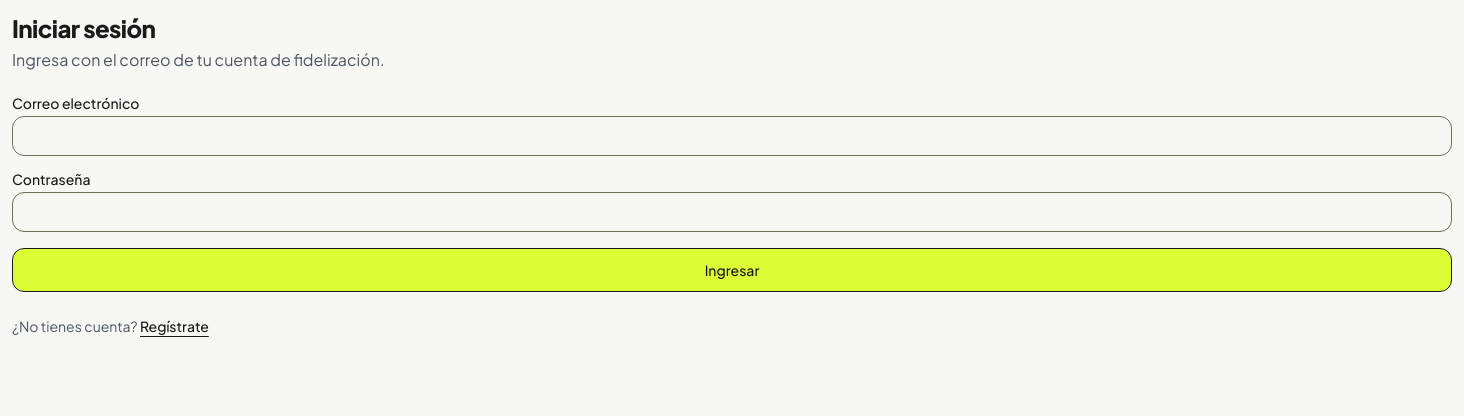
Scenario: F1-FE-01 · ingreso de cliente (UI-02) › cuenta desactivada → mensaje y cierre de sesión
The width and height of the screenshot is (1464, 416).
Type "cliente.zontes@ejemplo.test" into the field labelled "Correo electrónico".
click(732, 136); type("cliente.zontes@ejemplo.test")  # box x1=12 y1=116 x2=1452 y2=156
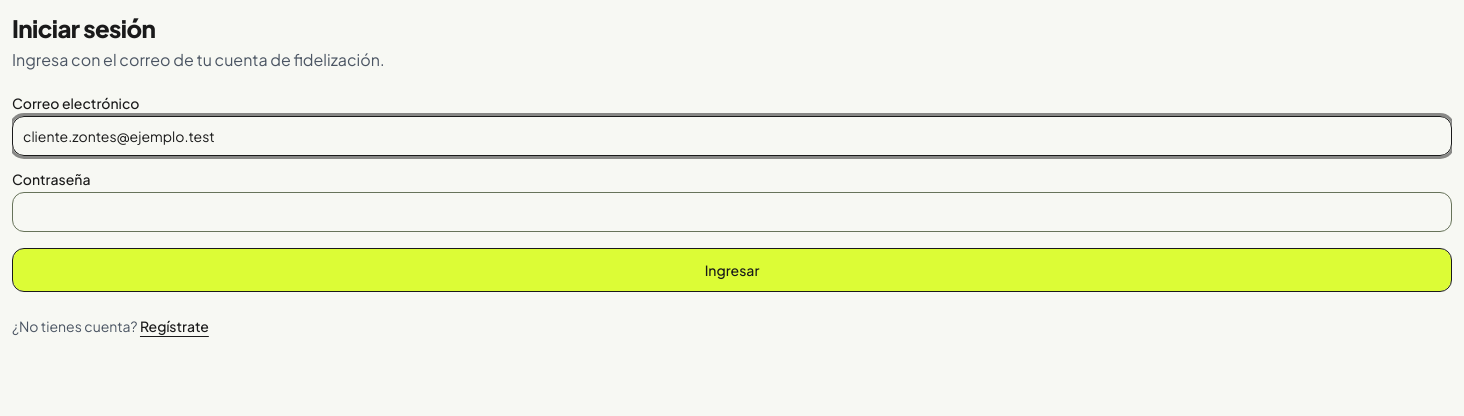
Type "secreta1" into the password field labelled "Contraseña".
click(732, 212); type("secreta1")  # box x1=12 y1=192 x2=1452 y2=232
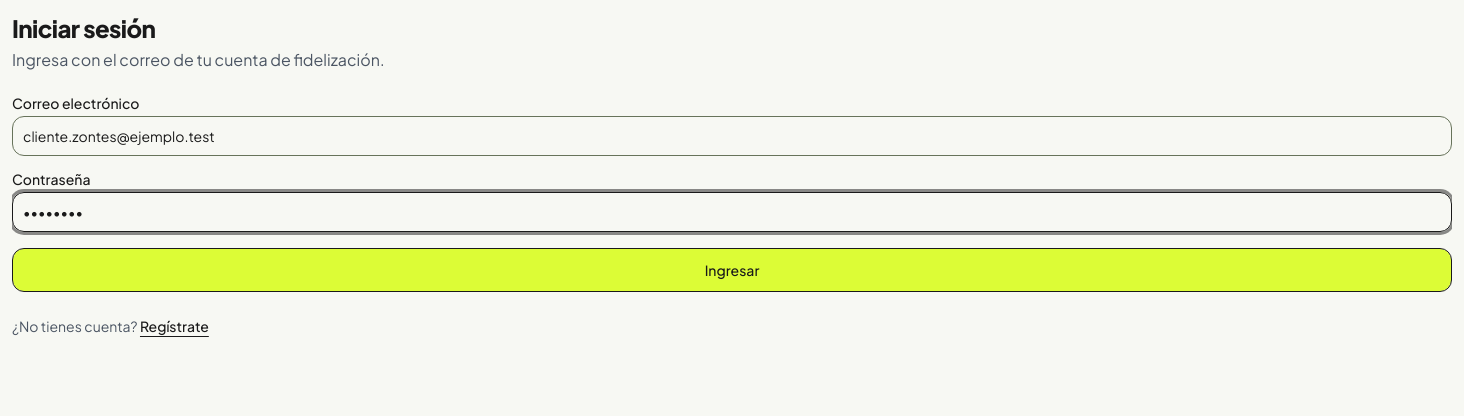
Click the button "Ingresar".
click(732, 270)  # box x1=12 y1=248 x2=1452 y2=292
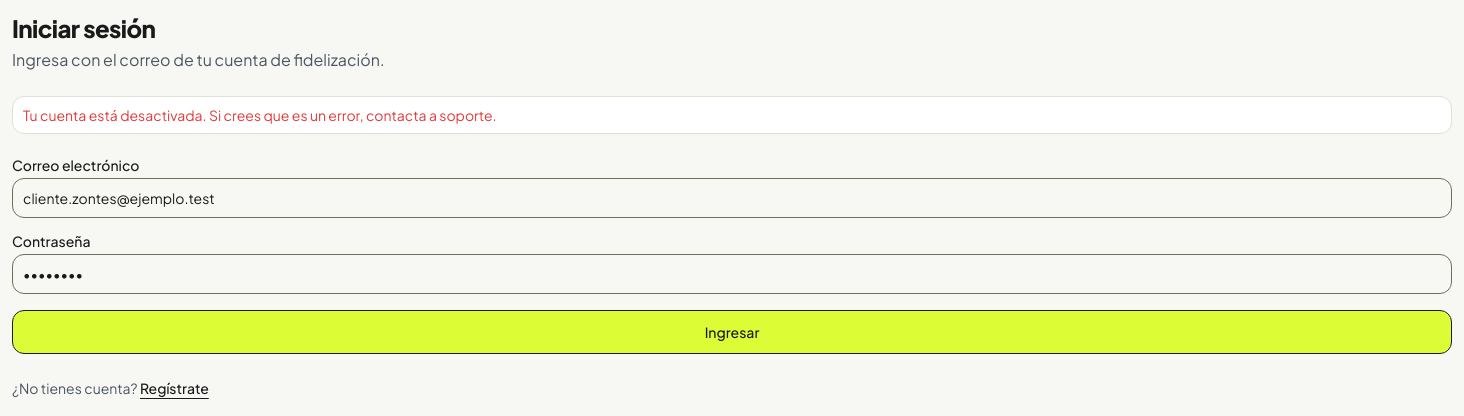
Result: the message shows "desactivada" at x1=23 y1=106 x2=497 y2=124
